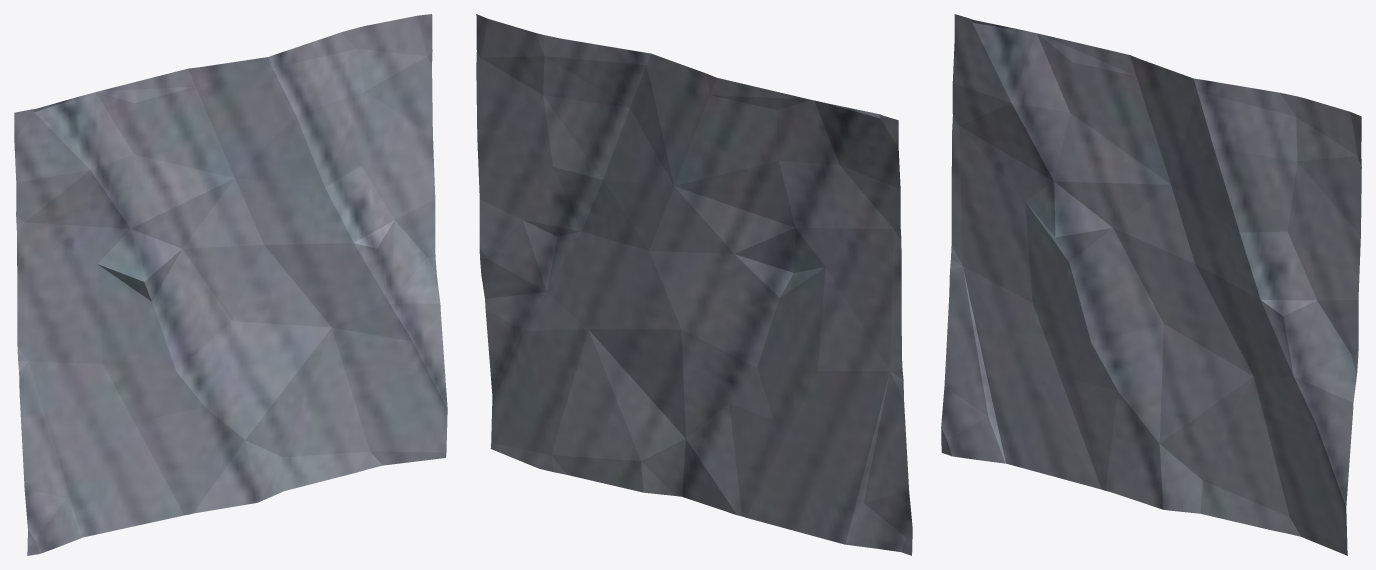
File: Tile_+003_+008_L24_0020233.obj
The picture shows the model from 3 angles, left to right: view 1: azimuth 30°, elevation 25°; view 2: azimuth 150°, elevation 25°; view 3: azimuth 330°, elevation 25°; orthographic projection. The views are drawn at different scales.
Size of the model in its own units: 0.9531 by 0.9531 by 0.0819.
1 material, 1 textured.
